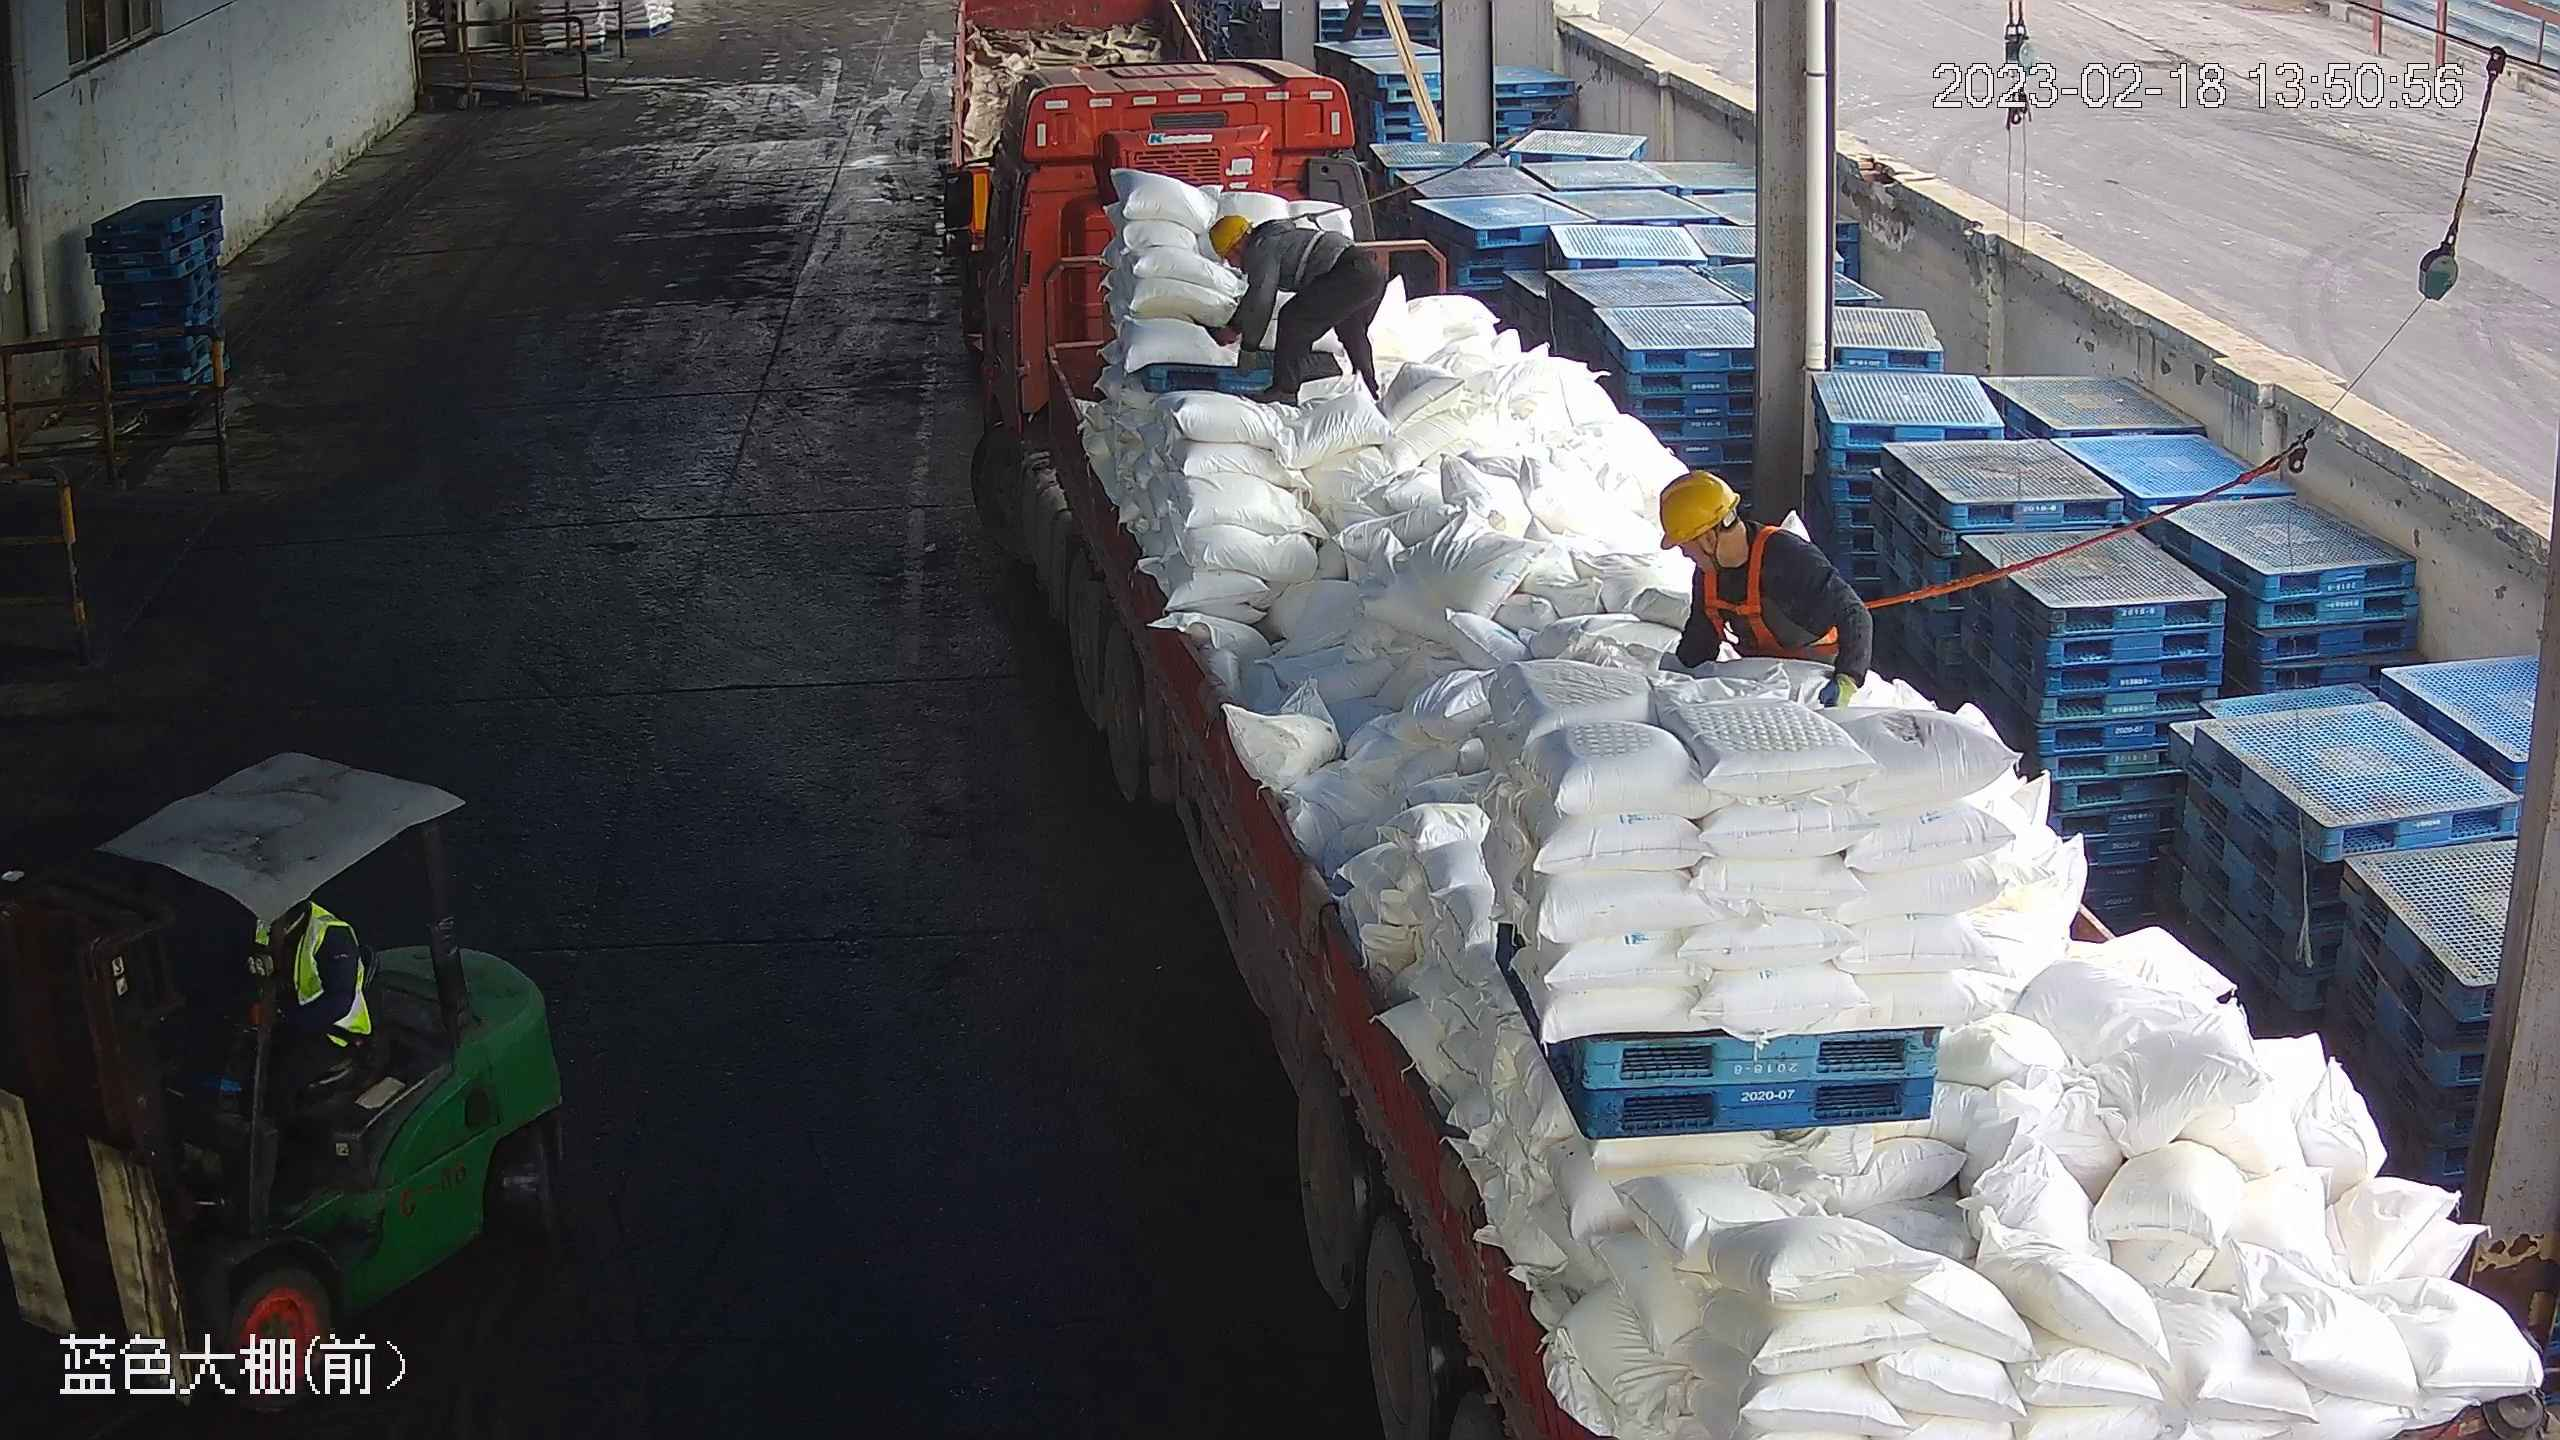belt: (1705, 530, 1867, 659), (1259, 211, 1340, 272)
head: (1659, 476, 1837, 627), (1208, 210, 1335, 315)
helmet: (1661, 476, 1735, 554), (1210, 213, 1251, 257)
people: (179, 901, 381, 1171), (1208, 208, 1391, 389)
truck: (940, 47, 2560, 1440)
